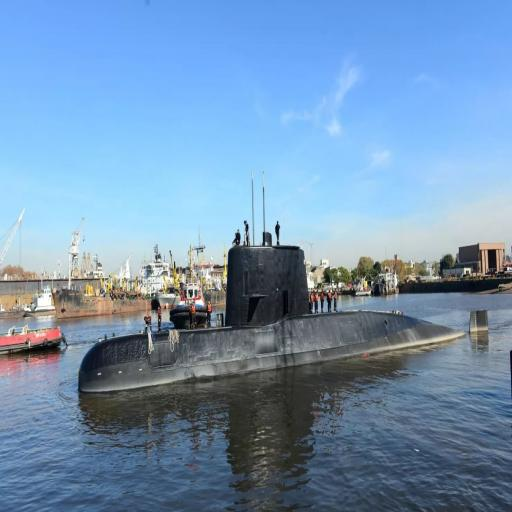submarine: (74, 167, 498, 406)
